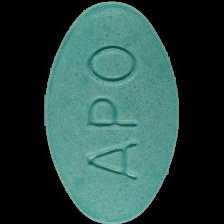53808-0983: (0, 0, 224, 224)
